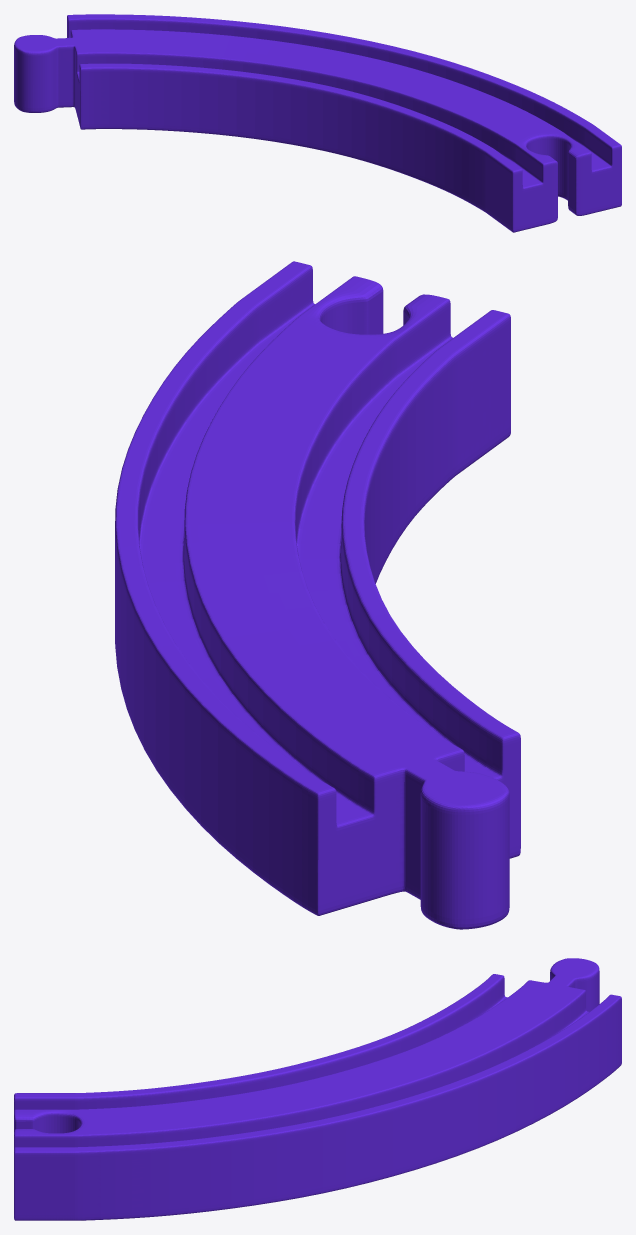
Rendered from purple_track.glb.
3 renders of one model, top to bottom at view 1: azimuth 30°, elevation 25°; view 2: azimuth 150°, elevation 25°; view 3: azimuth 270°, elevation 25°, orthographic. The views are drawn at different scales.
Visible parts, largest first — view 1: curved_track; view 2: curved_track; view 3: curved_track.
Part boxes in pixels (<box>): curved_track: <box>14,14,621,232</box>; curved_track: <box>115,261,520,929</box>; curved_track: <box>14,958,621,1220</box>.
Size of the model in its own units: 4.76 by 0.8121 by 6.3.
